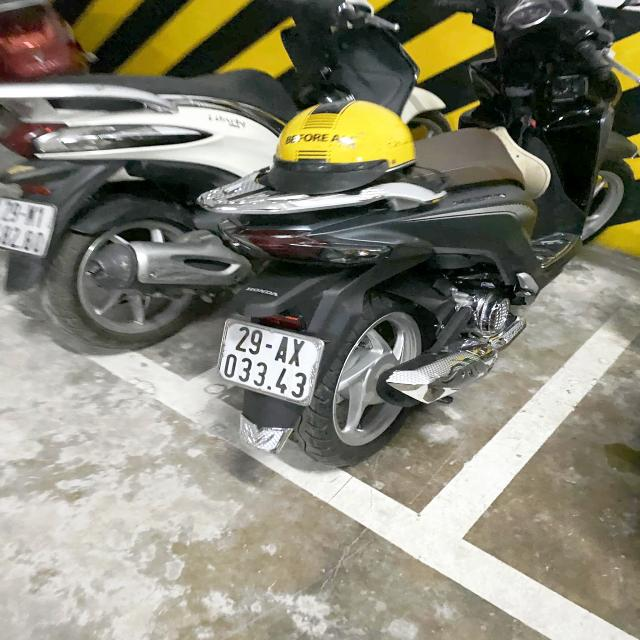license_plate: (215, 317, 322, 407)
